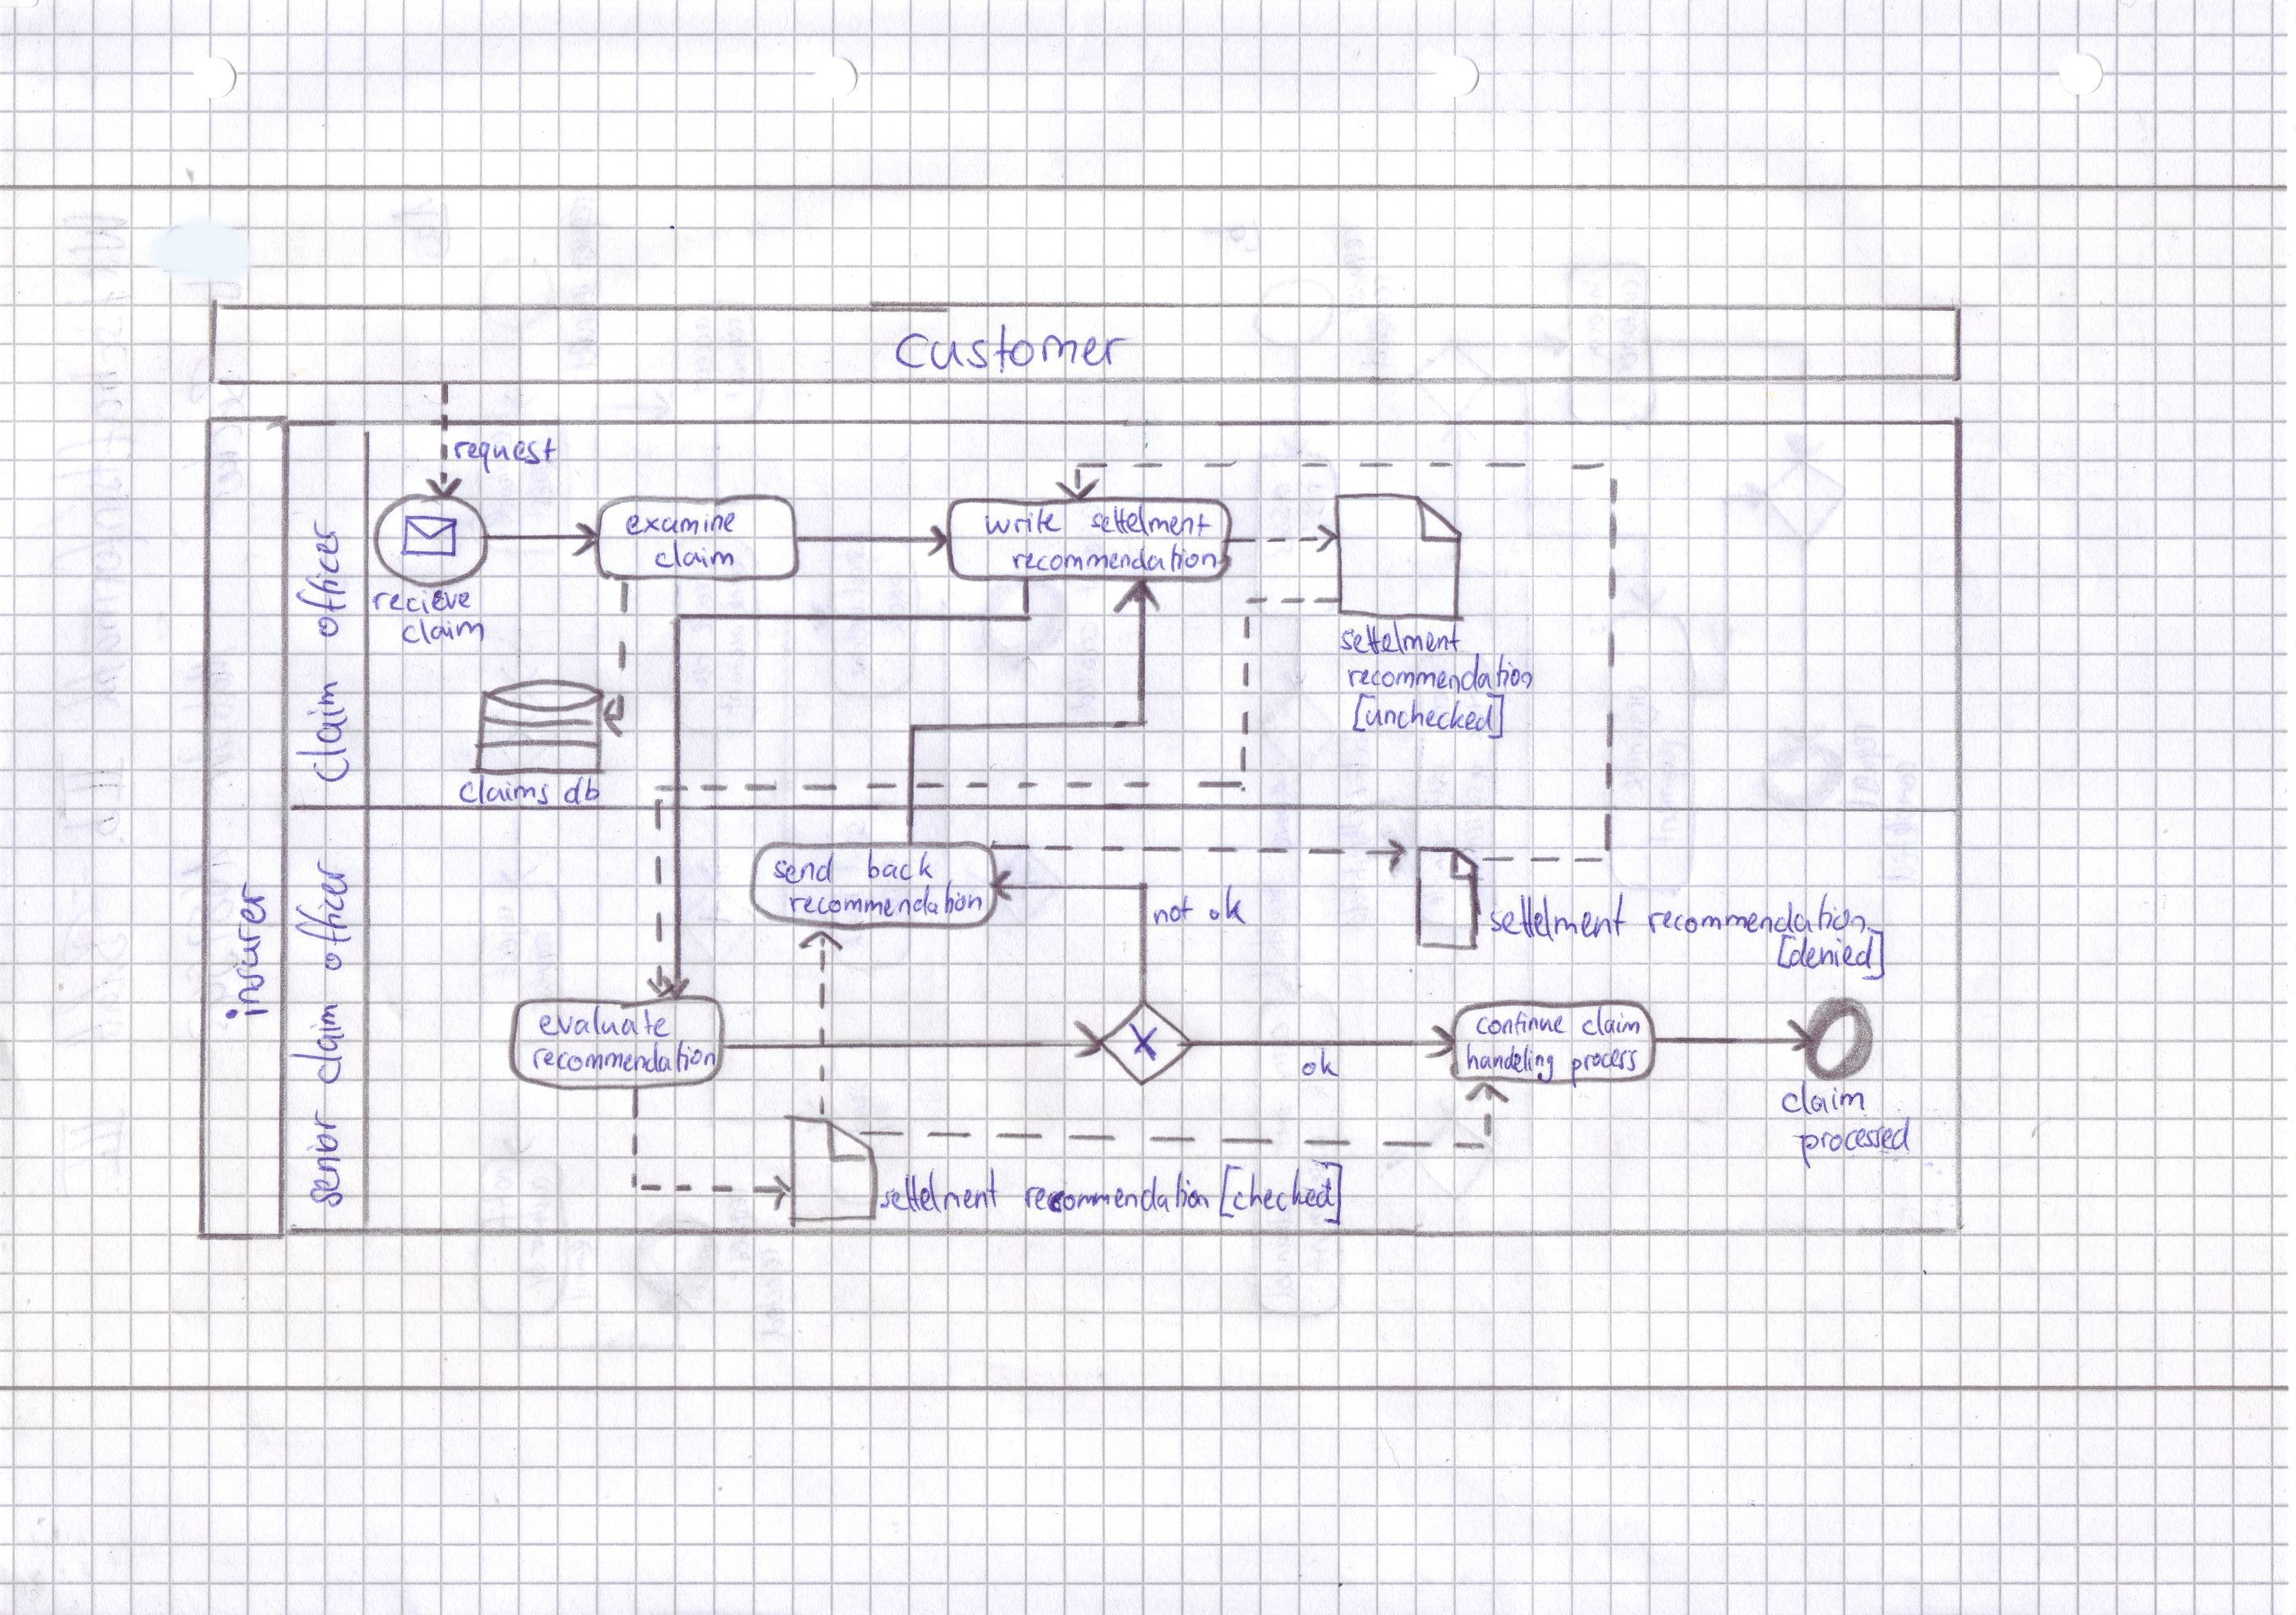[checked]: (1214, 1157, 1347, 1232)
[denied]: (1770, 921, 1889, 986)
[unchecked]: (1345, 687, 1511, 745)
back: (861, 844, 940, 886)
claim: (288, 673, 356, 790), (283, 998, 351, 1092), (1775, 1073, 1871, 1119), (395, 612, 491, 652), (648, 533, 743, 573), (1578, 1002, 1644, 1042)
claims: (453, 767, 556, 807)
continue: (1471, 1005, 1573, 1042)
customer: (888, 318, 1143, 381)
db: (559, 773, 606, 809)
evaluate: (535, 1002, 674, 1043)
examine: (620, 509, 743, 540)
handeling: (1463, 1038, 1559, 1087)
insurer: (217, 876, 274, 1028)
not: (1148, 890, 1200, 933)
officer: (288, 849, 358, 977), (290, 512, 353, 645)
ok: (1202, 881, 1253, 932), (1295, 1043, 1344, 1084)
process: (1566, 1043, 1642, 1094)
processed: (1796, 1110, 1917, 1175)
recieve: (369, 586, 477, 619)
recommendation: (1641, 886, 1873, 940), (783, 874, 989, 923), (1019, 1168, 1216, 1218), (1342, 648, 1536, 699), (526, 1035, 723, 1078), (1005, 540, 1223, 577)
request: (447, 430, 563, 479)
send: (765, 846, 840, 890)
senior: (299, 1101, 348, 1215)
settelment: (1483, 886, 1632, 949), (875, 1161, 1006, 1218), (1333, 615, 1468, 661), (1083, 500, 1218, 542)
write: (979, 503, 1071, 540)
